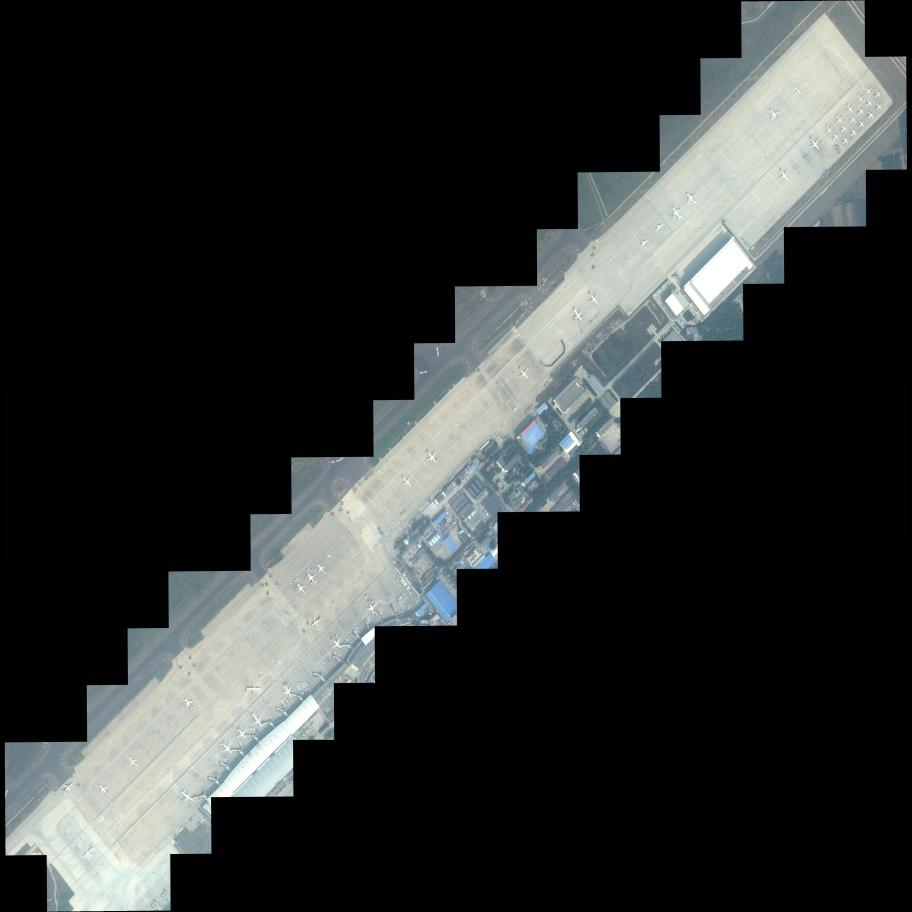plane: (764, 104, 784, 125), (177, 786, 197, 806), (774, 163, 793, 183), (327, 632, 346, 652), (422, 446, 441, 466), (95, 780, 113, 799), (667, 203, 685, 222), (180, 694, 198, 713), (806, 134, 823, 153), (249, 711, 266, 730), (515, 363, 532, 382), (682, 189, 699, 207), (585, 288, 602, 306), (59, 780, 77, 797), (80, 843, 97, 861), (234, 724, 251, 742), (279, 681, 296, 699), (302, 570, 319, 588), (398, 472, 415, 490), (570, 305, 587, 323), (124, 752, 140, 770), (219, 739, 235, 757), (364, 598, 380, 615), (309, 613, 325, 630), (293, 581, 309, 598), (313, 561, 329, 577), (637, 237, 651, 252), (245, 682, 261, 695), (791, 84, 804, 98), (653, 221, 665, 234), (865, 109, 877, 121), (871, 88, 883, 100), (862, 85, 874, 97), (847, 114, 858, 126), (823, 123, 834, 135), (834, 112, 845, 124), (844, 102, 855, 114), (838, 123, 849, 134), (864, 98, 875, 108), (856, 106, 866, 117), (830, 131, 840, 142), (855, 92, 865, 103), (849, 127, 859, 137), (857, 119, 867, 129), (874, 102, 884, 112), (840, 136, 850, 146)
